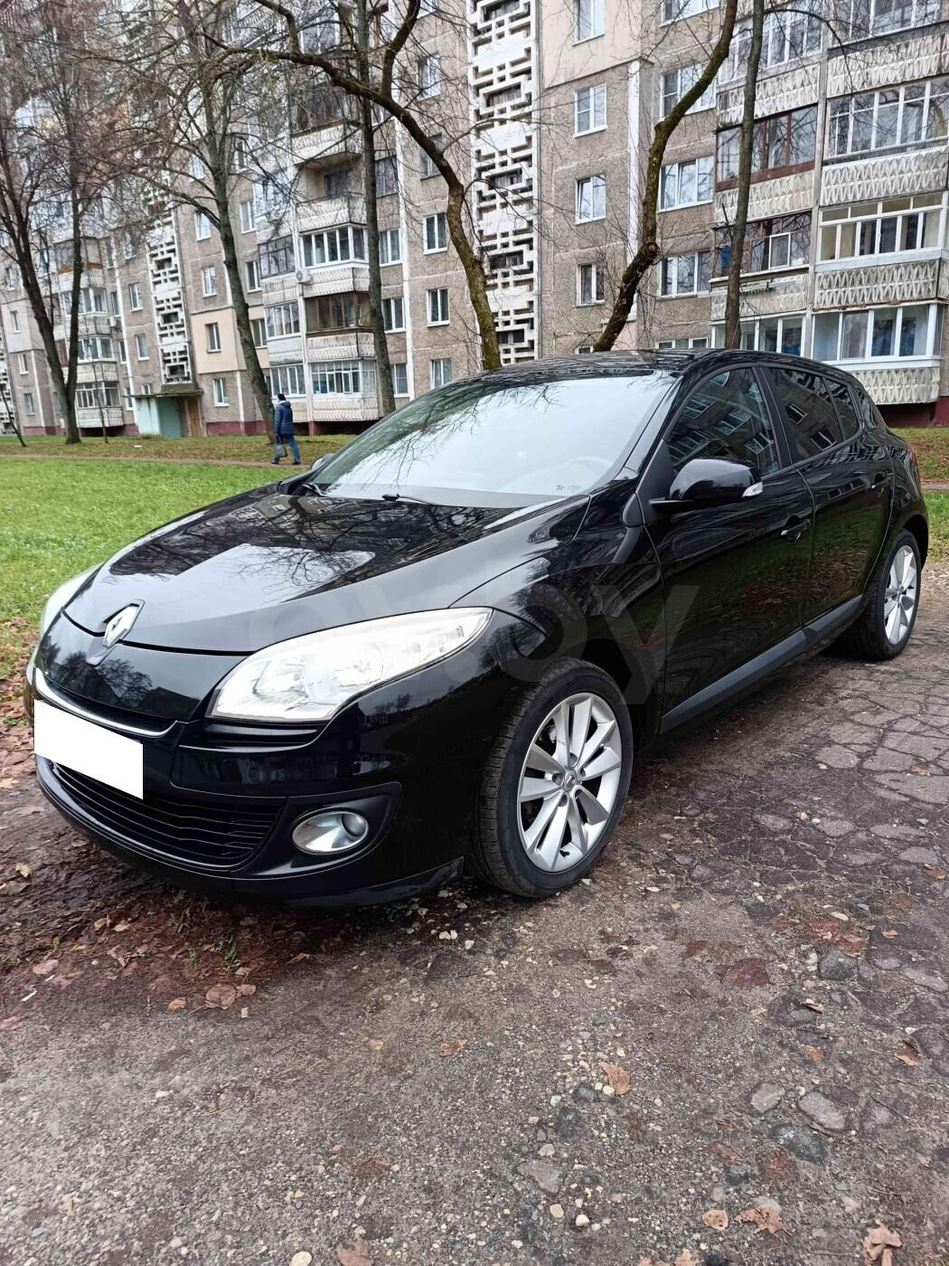Megane_2008-2014: (22, 344, 935, 906)
